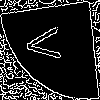V: (25, 25, 70, 63)
